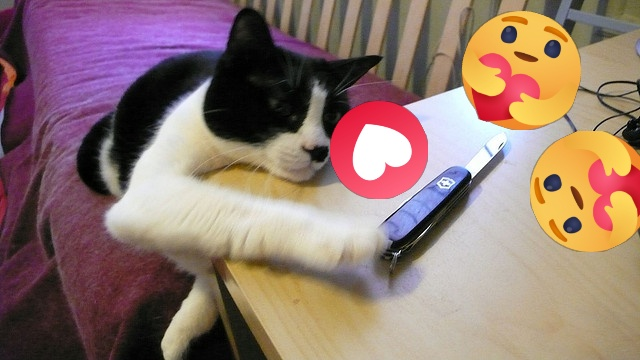care: (462, 11, 581, 130), (530, 131, 640, 252)
love: (330, 101, 428, 199)
